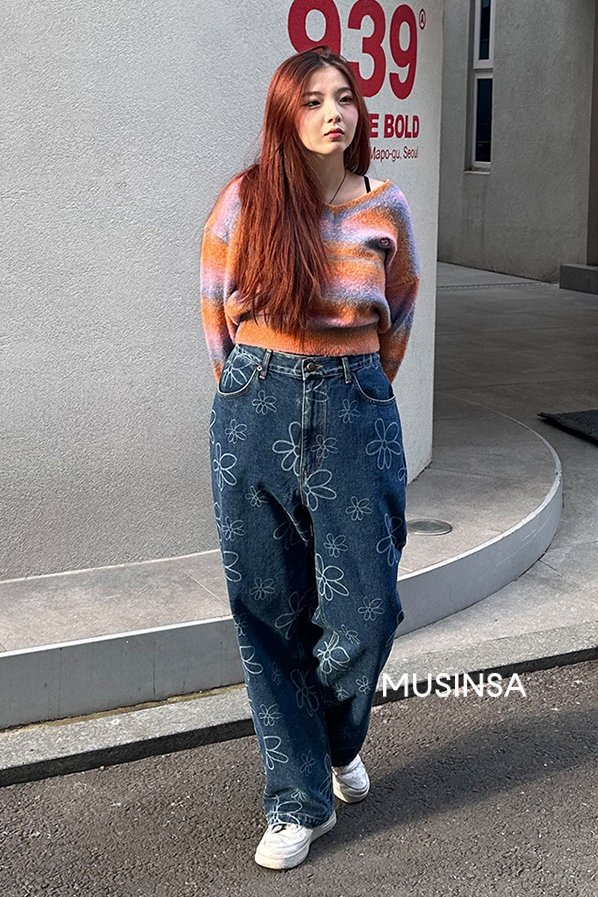Pants: (201, 335, 404, 824)
Shoes: (253, 747, 382, 879)
Top: (185, 160, 438, 391)
